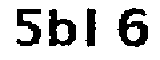5: (12, 4, 44, 48)
6: (114, 5, 151, 52)
I: (85, 7, 103, 52)
b: (47, 7, 79, 51)
